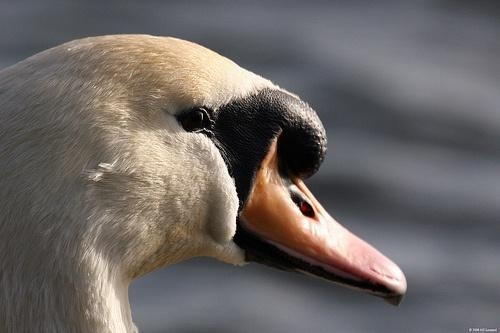bird: (1, 33, 409, 333)
